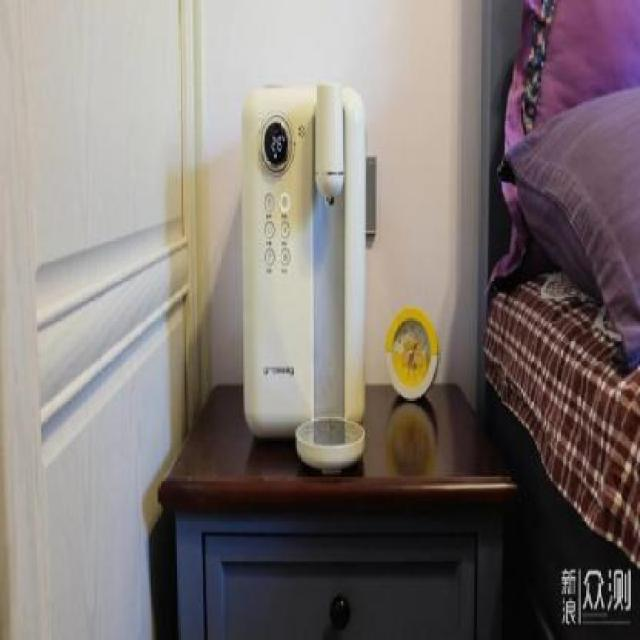cooler: (238, 80, 369, 471)
